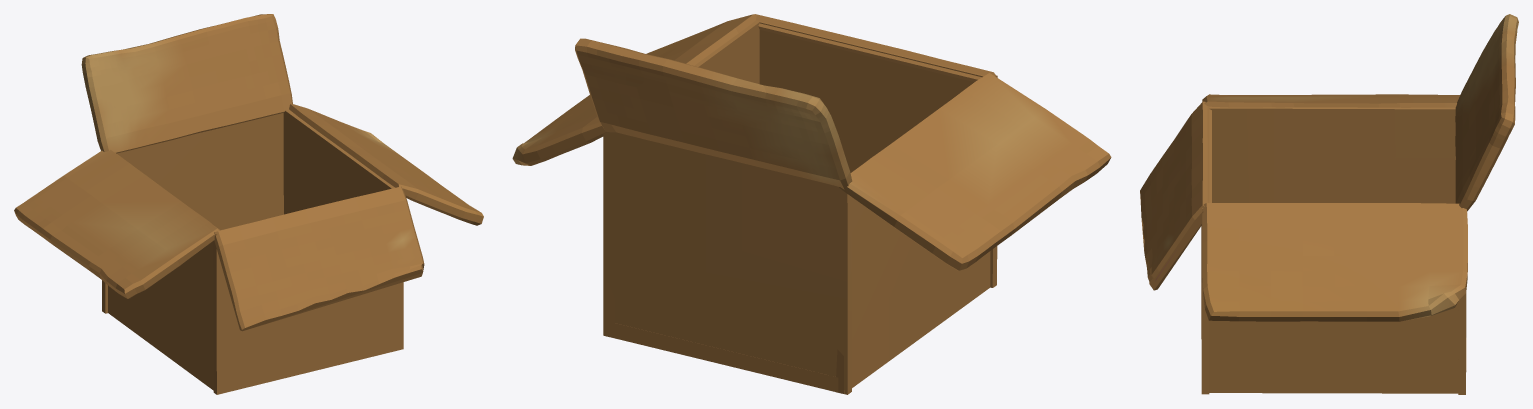
Rendered from cardboardbox.fbx.
The picture shows the model from 3 angles, left to right: view 1: azimuth 30°, elevation 25°; view 2: azimuth 150°, elevation 25°; view 3: azimuth 270°, elevation 25°; orthographic projection. The views are drawn at different scales.
Visible parts, largest first — view 1: cardboard_box_1; view 2: cardboard_box_1; view 3: cardboard_box_1.
Boxes of the visible parts, x1,y1,x2,y2 form: cardboard_box_1: [14, 14, 483, 394]; cardboard_box_1: [512, 14, 1111, 394]; cardboard_box_1: [1140, 14, 1518, 394].
Bounding box in the file's own units: 3.93 × 2.51 × 3.09.
Materials: 2 (1 with a texture image).
